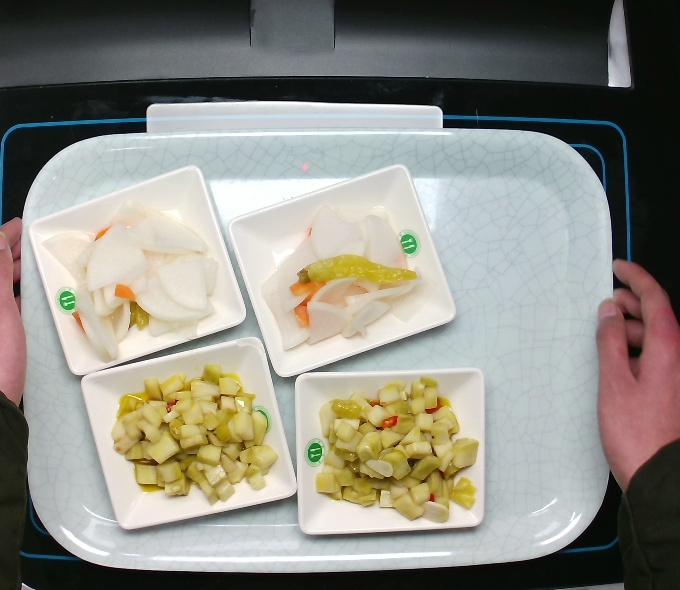wcq-LuLuoBo: (37, 204, 238, 366), (263, 198, 425, 351)
wcq-TangCuOu: (317, 376, 482, 521), (114, 362, 280, 500)
